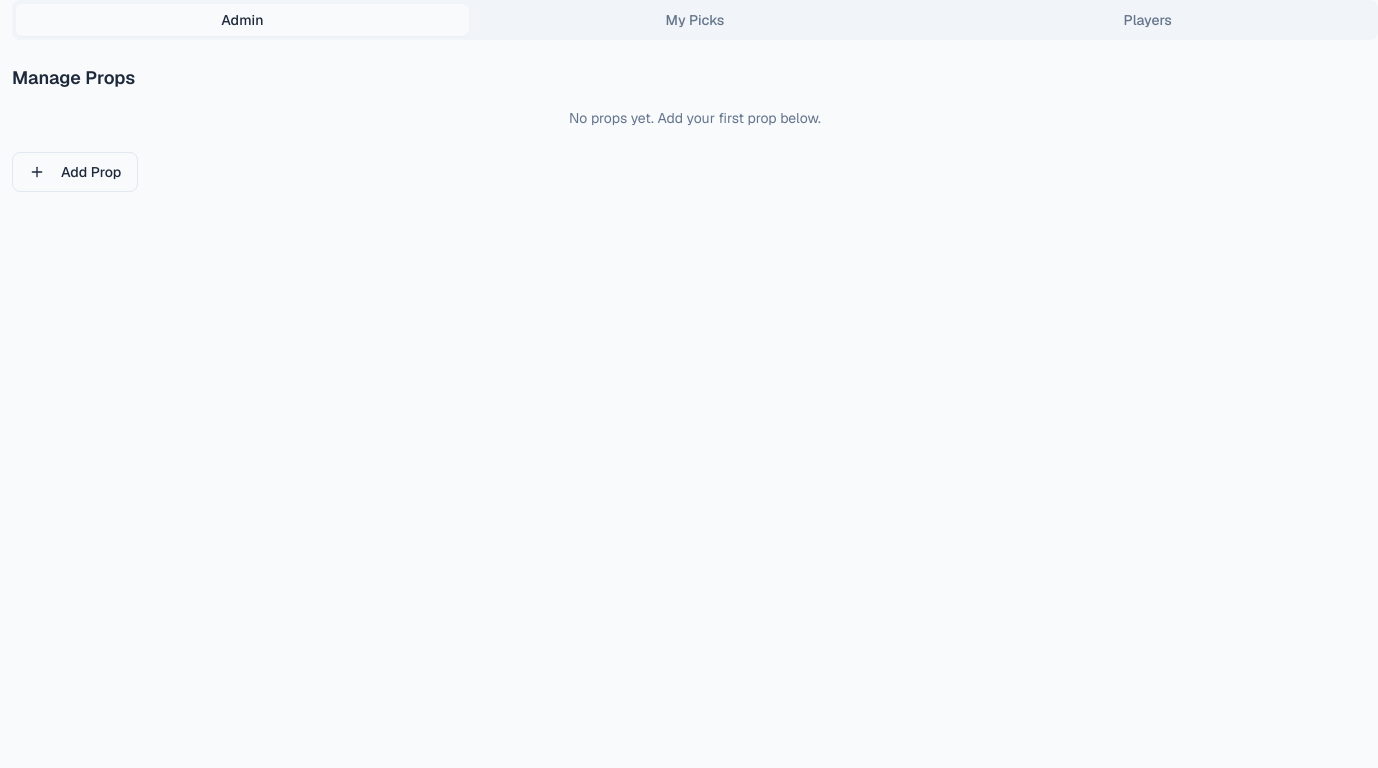
Test: CaptainTabsClient › Admin Tab › add prop form › form inputs › allows adding more options
Click the button "Add Prop": (75,172) [12,152,138,192]
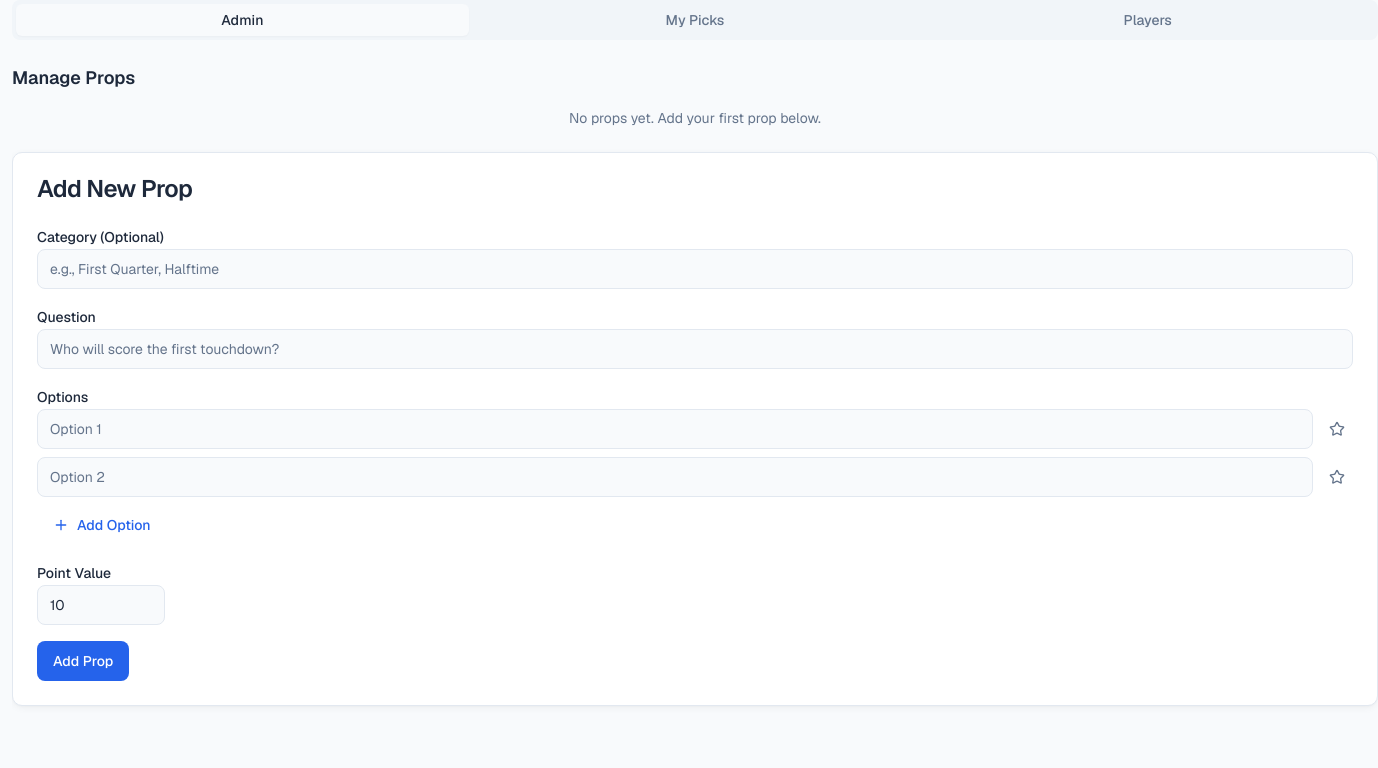
Click the button "Add Option": (102,525) [37,505,167,545]
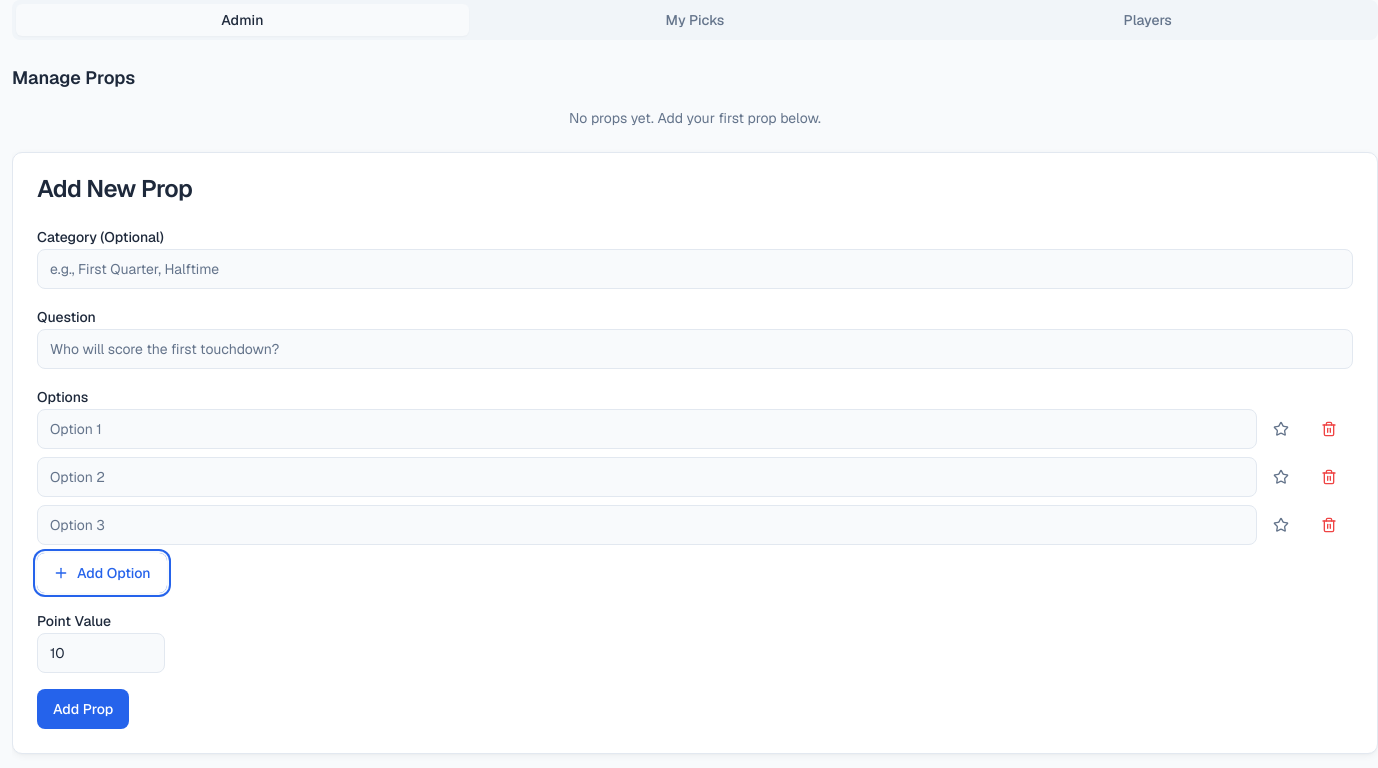
Now the field with placeholder "Option 3" is shown, box [37,505,1257,545]
